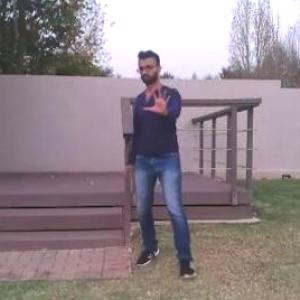follow_hand: (141, 80, 175, 120)
